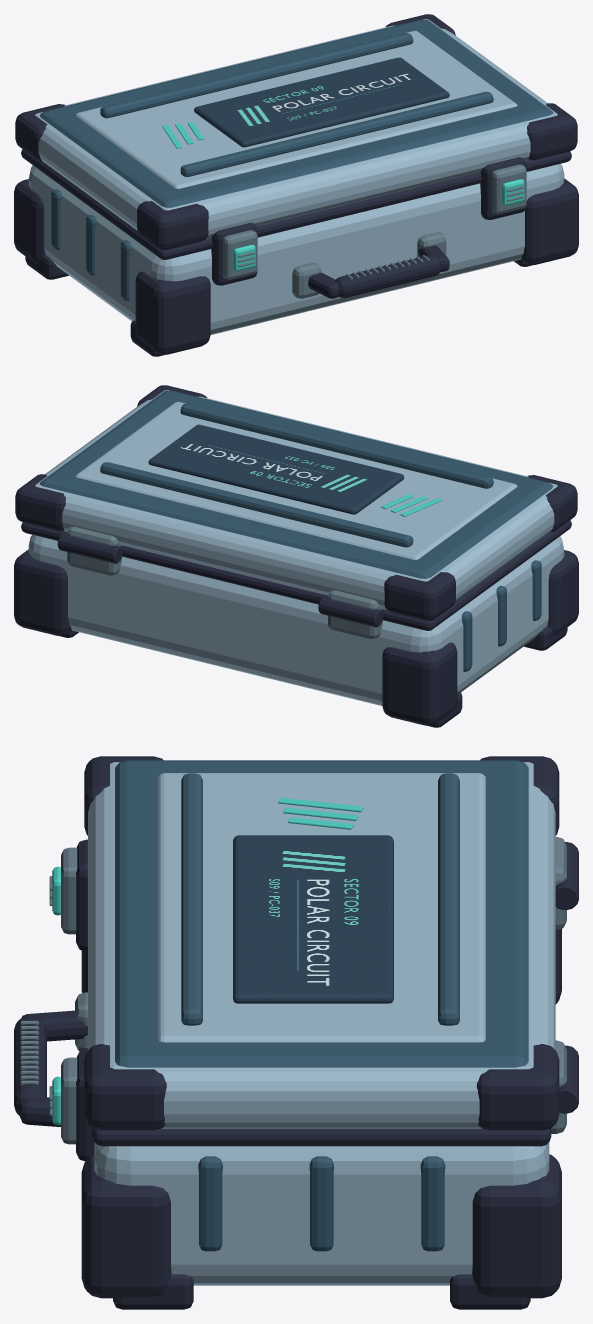
Rendered from polar-circuit.glb.
The picture shows the model from 3 angles, top to bottom: view 1: azimuth 30°, elevation 25°; view 2: azimuth 150°, elevation 25°; view 3: azimuth 270°, elevation 25°; orthographic projection. The views are drawn at different scales.
Visible parts, largest first — view 1: Lower tub, Lid, Recessed lid face, Reinforced upper frame, Back identification panel, Corner bumper, Compression seal, Lid stiffener 1, Lid stiffener 2, Corner bumper.002, Lid corner cap, Carry grip (+16 smaller); view 2: Lower tub, Lid, Recessed lid face, Reinforced upper frame, Back identification panel, Corner bumper.001, Compression seal, Lid stiffener 1, Lid stiffener 2, Corner bumper.003, Lid corner cap.001, Corner bumper (+10 smaller); view 3: Recessed lid face, Lower tub, Reinforced upper frame, Lid, Back identification panel, Corner bumper.002, Corner bumper.003, Compression seal, Lid corner cap.003, Lid stiffener 1, Lid stiffener 2, Lid corner cap.002 (+17 smaller).
Part boxes in pixels (<box>): Lower tub: <box>28,164,564,334</box>; Lid: <box>35,19,557,238</box>; Recessed lid face: <box>75,30,517,188</box>; Reinforced upper frame: <box>40,19,552,207</box>; Back identification panel: <box>194,57,449,147</box>; Corner bumper: <box>135,271,210,354</box>; Compression seal: <box>21,149,571,259</box>; Lid stiffener 1: <box>180,91,493,176</box>; Lid stiffener 2: <box>100,33,413,118</box>; Corner bumper.002: <box>521,178,578,264</box>; Lid corner cap: <box>137,201,208,249</box>; Carry grip: <box>335,255,441,297</box>; Lower tub: <box>28,535,564,705</box>; Lid: <box>35,390,557,609</box>; Recessed lid face: <box>75,401,517,559</box>; Reinforced upper frame: <box>40,390,552,578</box>; Back identification panel: <box>148,424,404,514</box>; Corner bumper.001: <box>382,642,457,725</box>; Compression seal: <box>21,520,571,630</box>; Lid stiffener 1: <box>180,403,493,488</box>; Lid stiffener 2: <box>100,462,413,547</box>; Corner bumper.003: <box>14,549,71,635</box>; Lid corner cap.001: <box>384,572,455,620</box>; Corner bumper: <box>547,550,578,635</box>; Recessed lid face: <box>158,773,485,1042</box>; Lower tub: <box>94,1142,549,1285</box>; Reinforced upper frame: <box>115,760,528,1067</box>; Lid: <box>88,762,555,1128</box>; Back identification panel: <box>233,835,393,1003</box>; Corner bumper.002: <box>81,1154,171,1298</box>; Corner bumper.003: <box>472,1154,561,1298</box>; Compression seal: <box>92,1128,551,1146</box>; Lid corner cap.003: <box>476,1044,559,1130</box>; Lid stiffener 1: <box>181,773,202,1025</box>; Lid stiffener 2: <box>438,773,459,1025</box>; Lid corner cap.002: <box>84,1044,166,1130</box>.
Size of the model in its own units: 0.93 by 0.3395 by 0.6709.
6 materials, 1 textured.
